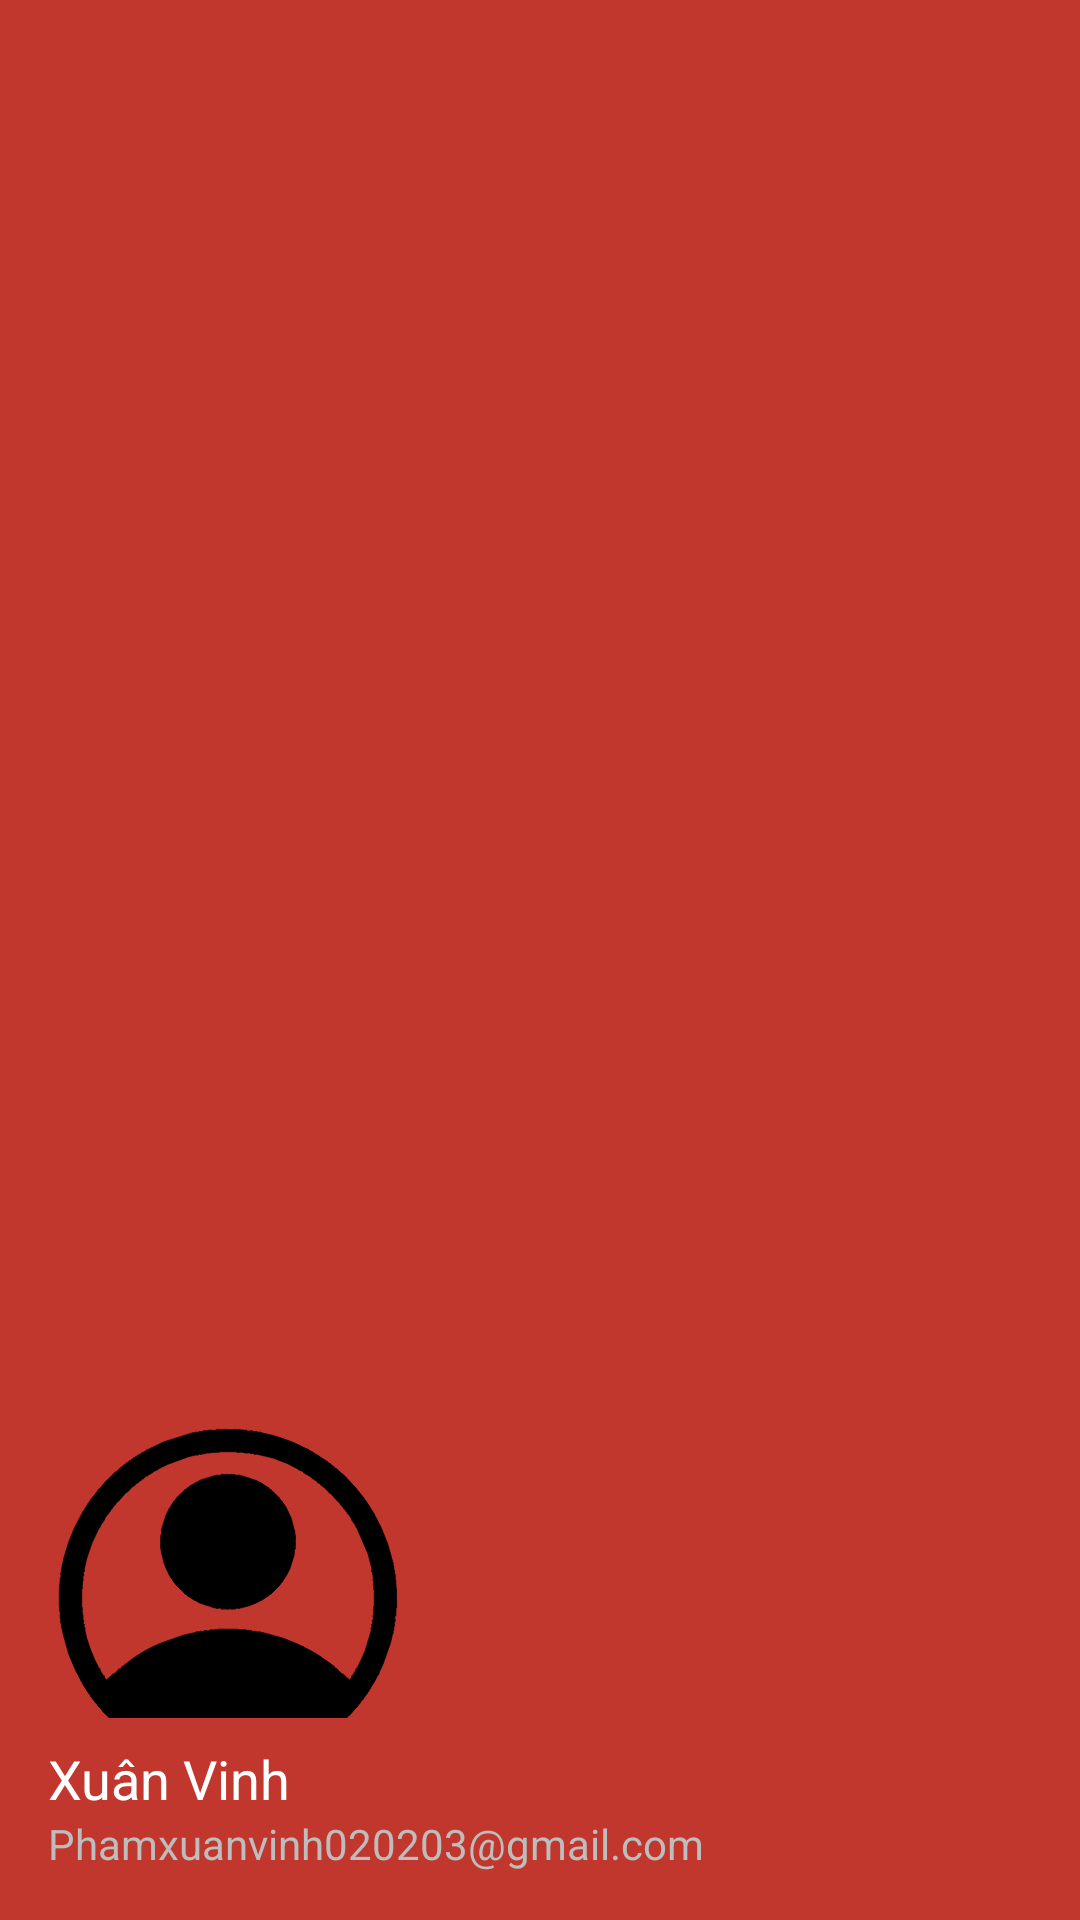

Screen size 1080*1920. Icon name, then its box in pixels as (x1, y1, x2, y2):
profile: (58, 1428, 398, 1718)
